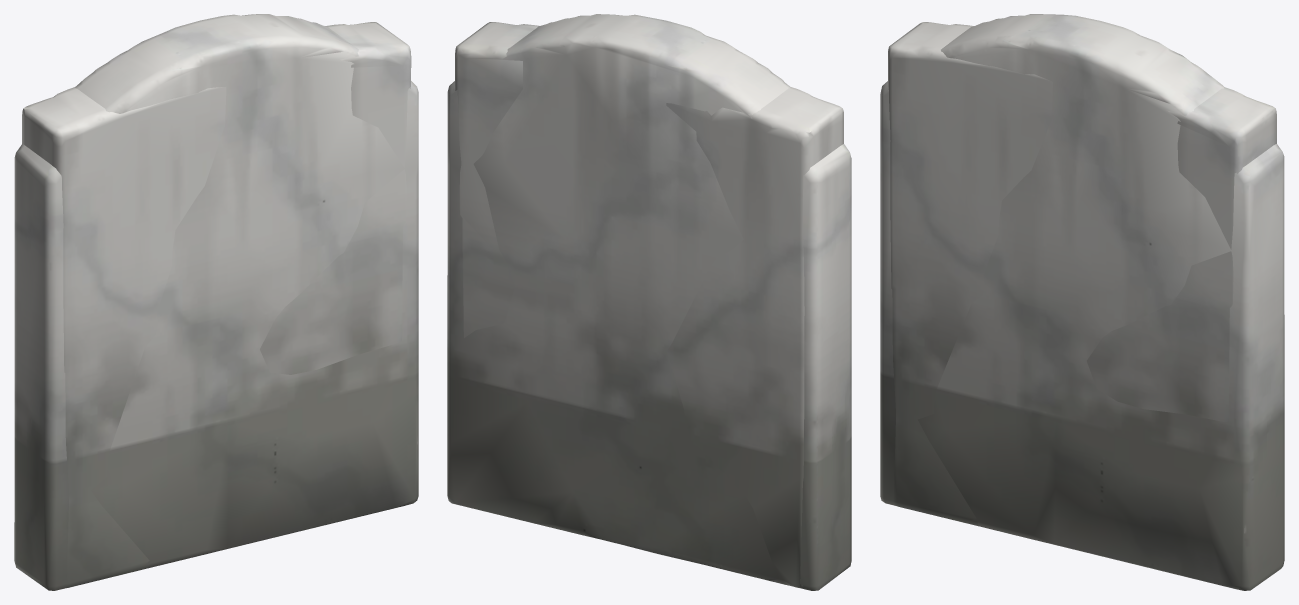
Rendered from lawnMarble.glb.
3 views of the same model, side by side, from view 1: azimuth 30°, elevation 25°; view 2: azimuth 150°, elevation 25°; view 3: azimuth 330°, elevation 25° (orthographic).
Visible parts, largest first — view 1: lawnMarble_b, lawnMarble_a; view 2: lawnMarble_b, lawnMarble_a; view 3: lawnMarble_b, lawnMarble_a.
Boxes of the visible parts, x1,y1,x2,y2 form: lawnMarble_b: [14, 14, 418, 590]; lawnMarble_a: [22, 22, 411, 588]; lawnMarble_b: [447, 14, 851, 590]; lawnMarble_a: [455, 22, 843, 588]; lawnMarble_b: [880, 14, 1284, 590]; lawnMarble_a: [888, 22, 1276, 524].
Size of the model in its own units: 0.4399 by 0.5675 by 0.0808.
Materials: 2 (2 with a texture image).
